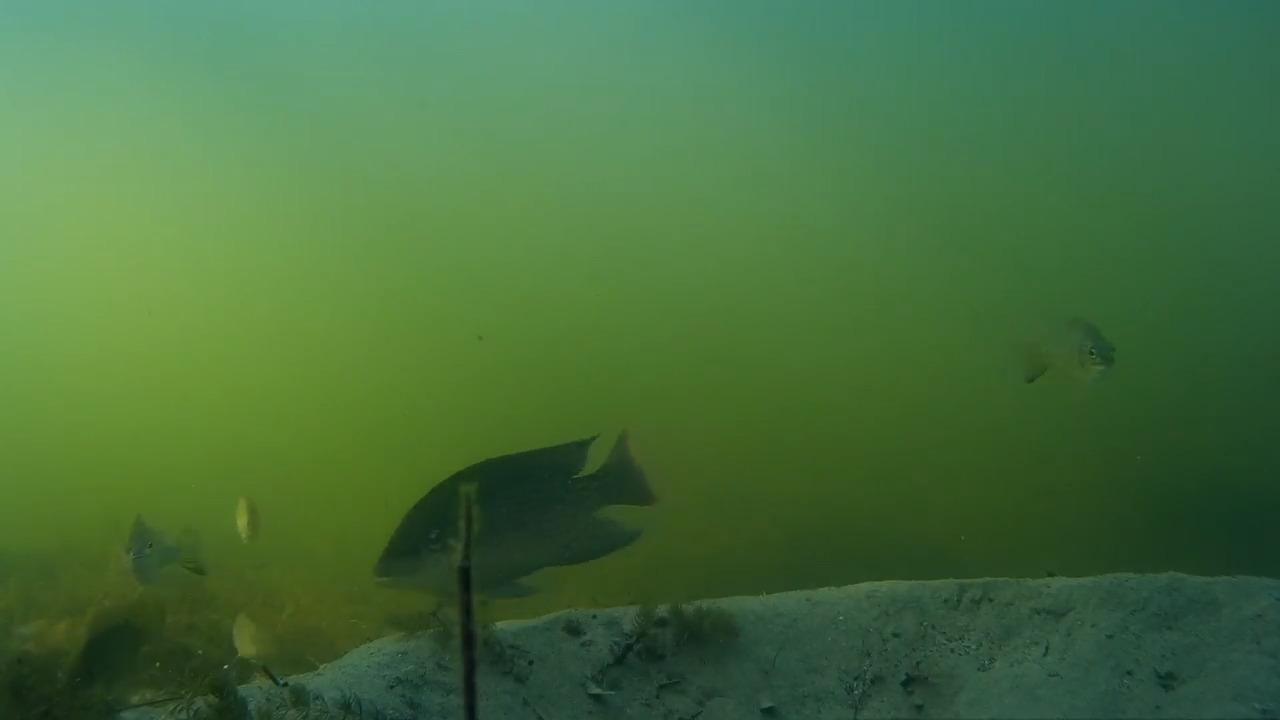Tilapia: (377, 421, 678, 623), (99, 508, 223, 588), (1006, 316, 1119, 393), (202, 602, 323, 664), (225, 482, 274, 534)
